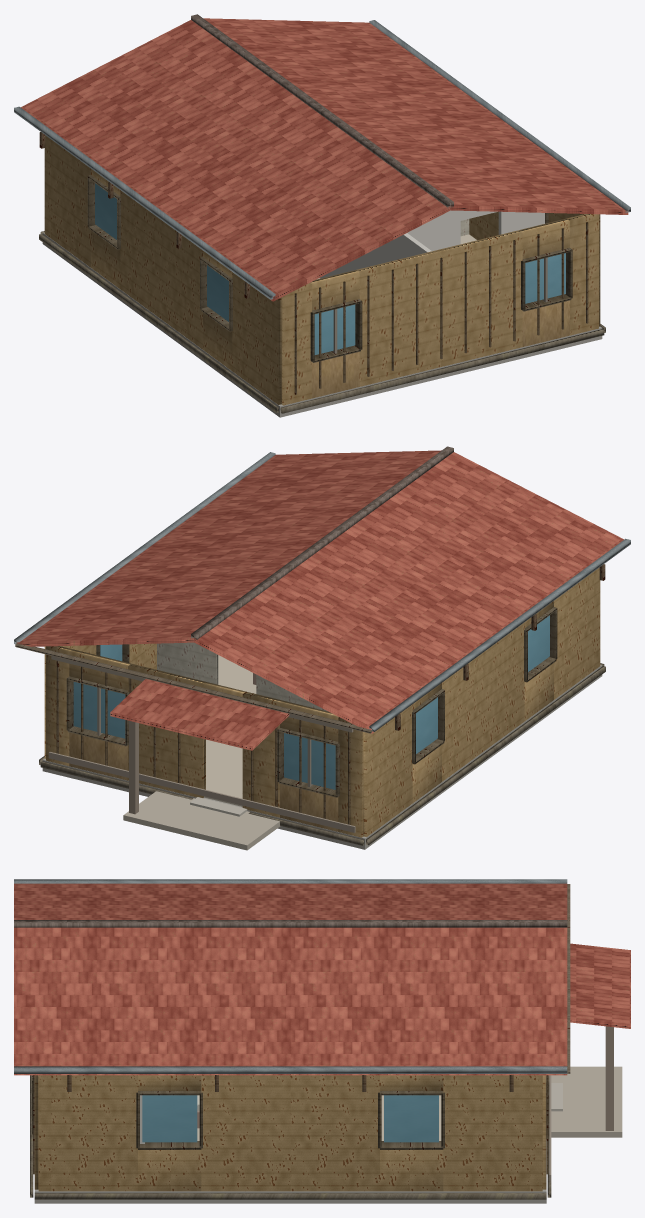
File: HAB_249_Z2_R14_ALBEDO_OTIM_CANDIDATO.gltf
3 renders of one model, top to bottom at view 1: azimuth 30°, elevation 25°; view 2: azimuth 150°, elevation 25°; view 3: azimuth 270°, elevation 25°, orthographic. The views are drawn at different scales.
Visible parts, largest first — view 1: HAB_249_COBERTURA_AGUA_O, HAB_249_COBERTURA_AGUA_L, HAB_249_FACHADA_FUNDOS_PAREDE_1, HAB_249_LATERAL_O_PAREDE_1, HAB_249_LATERAL_O_PAREDE_FINAL, HAB_249_LATERAL_O_PAREDE_0, HAB_249_REV26_ARREMATE_EMBASAMENTO, HAB_249_FACHADA_FUNDOS_PAREDE_0, HAB_249_FUNDACAO, HAB_249_FACHADA_FUNDOS_PAREDE_FINAL, HAB_249_COBERTURA_CUMEEIRA, HAB_249_COBERTURA_CALHA_O (+15 smaller); view 2: HAB_249_COBERTURA_AGUA_O, HAB_249_COBERTURA_AGUA_L, HAB_249_LATERAL_O_PAREDE_1, HAB_249_VARANDA_COBERTURA, HAB_249_LATERAL_O_PAREDE_0, HAB_249_VARANDA_PLATAFORMA, HAB_249_LATERAL_O_PAREDE_FINAL, HAB_249_FACHADA_FRONTAL_PAREDE_2, HAB_249_REV26_ARREMATE_EMBASAMENTO, HAB_249_PISO_INTERNO, HAB_249_COBERTURA_CUMEEIRA, HAB_249_COBERTURA_CALHA_O (+22 smaller); view 3: HAB_249_COBERTURA_AGUA_L, HAB_249_LATERAL_L_PAREDE_1, HAB_249_COBERTURA_AGUA_O, HAB_249_LATERAL_L_PAREDE_FINAL, HAB_249_LATERAL_L_PAREDE_0, HAB_249_VARANDA_COBERTURA, HAB_249_COBERTURA_CUMEEIRA, HAB_249_COBERTURA_CALHA_L, HAB_249_VARANDA_PLATAFORMA, HAB_249_REV26_ARREMATE_EMBASAMENTO, HAB_249_FUNDACAO, HAB_249_COBERTURA_CALHA_O (+12 smaller).
Boxes of the visible parts, x1,y1,x2,y2 form: HAB_249_COBERTURA_AGUA_O: (21, 20, 450, 301); HAB_249_COBERTURA_AGUA_L: (203, 18, 628, 214); HAB_249_FACHADA_FUNDOS_PAREDE_1: (356, 230, 522, 386); HAB_249_LATERAL_O_PAREDE_1: (120, 190, 202, 349); HAB_249_LATERAL_O_PAREDE_FINAL: (232, 272, 281, 404); HAB_249_LATERAL_O_PAREDE_0: (44, 135, 90, 267); HAB_249_REV26_ARREMATE_EMBASAMENTO: (39, 231, 605, 413); HAB_249_FACHADA_FUNDOS_PAREDE_0: (281, 283, 311, 405); HAB_249_FUNDACAO: (42, 232, 602, 417); HAB_249_FACHADA_FUNDOS_PAREDE_FINAL: (566, 214, 598, 335); HAB_249_COBERTURA_CUMEEIRA: (191, 14, 453, 208); HAB_249_COBERTURA_CALHA_O: (14, 106, 275, 299); HAB_249_COBERTURA_AGUA_O: (194, 452, 623, 733); HAB_249_COBERTURA_AGUA_L: (16, 450, 441, 646); HAB_249_LATERAL_O_PAREDE_1: (442, 622, 524, 781); HAB_249_VARANDA_COBERTURA: (110, 679, 289, 750); HAB_249_LATERAL_O_PAREDE_0: (363, 704, 412, 836); HAB_249_VARANDA_PLATAFORMA: (123, 791, 280, 850); HAB_249_LATERAL_O_PAREDE_FINAL: (554, 567, 600, 699); HAB_249_FACHADA_FRONTAL_PAREDE_2: (128, 663, 205, 797); HAB_249_REV26_ARREMATE_EMBASAMENTO: (39, 663, 605, 845); HAB_249_PISO_INTERNO: (204, 655, 256, 806); HAB_249_COBERTURA_CUMEEIRA: (191, 446, 453, 639); HAB_249_COBERTURA_CALHA_O: (369, 538, 630, 731); HAB_249_COBERTURA_AGUA_L: (14, 927, 567, 1075); HAB_249_LATERAL_L_PAREDE_1: (201, 1075, 379, 1191); HAB_249_COBERTURA_AGUA_O: (14, 883, 567, 919); HAB_249_LATERAL_L_PAREDE_FINAL: (38, 1075, 137, 1191); HAB_249_LATERAL_L_PAREDE_0: (443, 1075, 542, 1191); HAB_249_VARANDA_COBERTURA: (570, 943, 630, 1028); HAB_249_COBERTURA_CUMEEIRA: (14, 920, 567, 927); HAB_249_COBERTURA_CALHA_L: (14, 1066, 567, 1073); HAB_249_VARANDA_PLATAFORMA: (551, 1066, 622, 1137); HAB_249_REV26_ARREMATE_EMBASAMENTO: (30, 1075, 551, 1199); HAB_249_FUNDACAO: (34, 1140, 546, 1203); HAB_249_COBERTURA_CALHA_O: (14, 879, 567, 883).
Size of the model in its own units: 8.74 by 4.23 by 12.
Materials: 12 (12 with a texture image).
